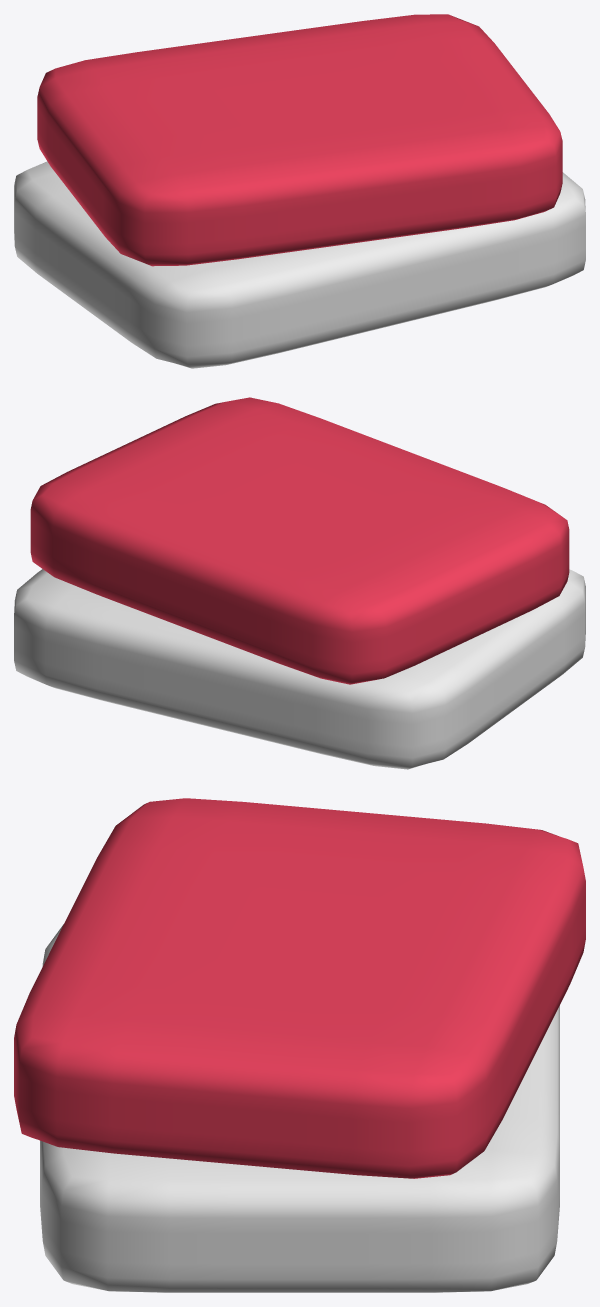
The model's file is Tumpukan baju.fbx.
The picture shows the model from 3 angles, top to bottom: view 1: azimuth 30°, elevation 25°; view 2: azimuth 150°, elevation 25°; view 3: azimuth 270°, elevation 25°; orthographic projection. The views are drawn at different scales.
Visible parts, largest first — view 1: Cube.008; view 2: Cube.008; view 3: Cube.008.
Boxes of the visible parts, x1,y1,x2,y2 form: Cube.008: [14, 14, 585, 368]; Cube.008: [14, 397, 585, 769]; Cube.008: [14, 798, 585, 1292].
Bounding box in the file's own units: 70.88 × 25.86 × 57.57.
